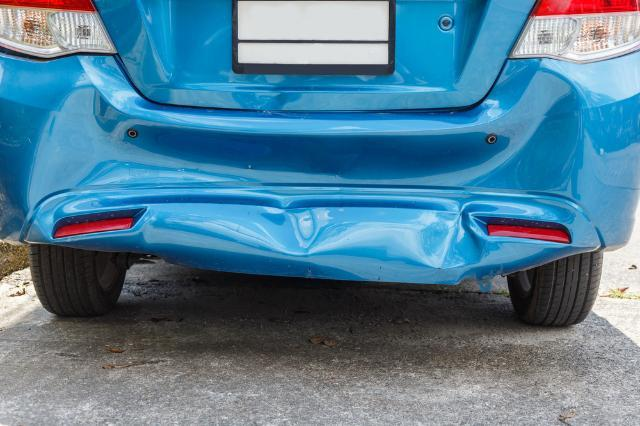dent: (29, 70, 583, 237), (416, 206, 484, 269), (258, 210, 354, 253)
